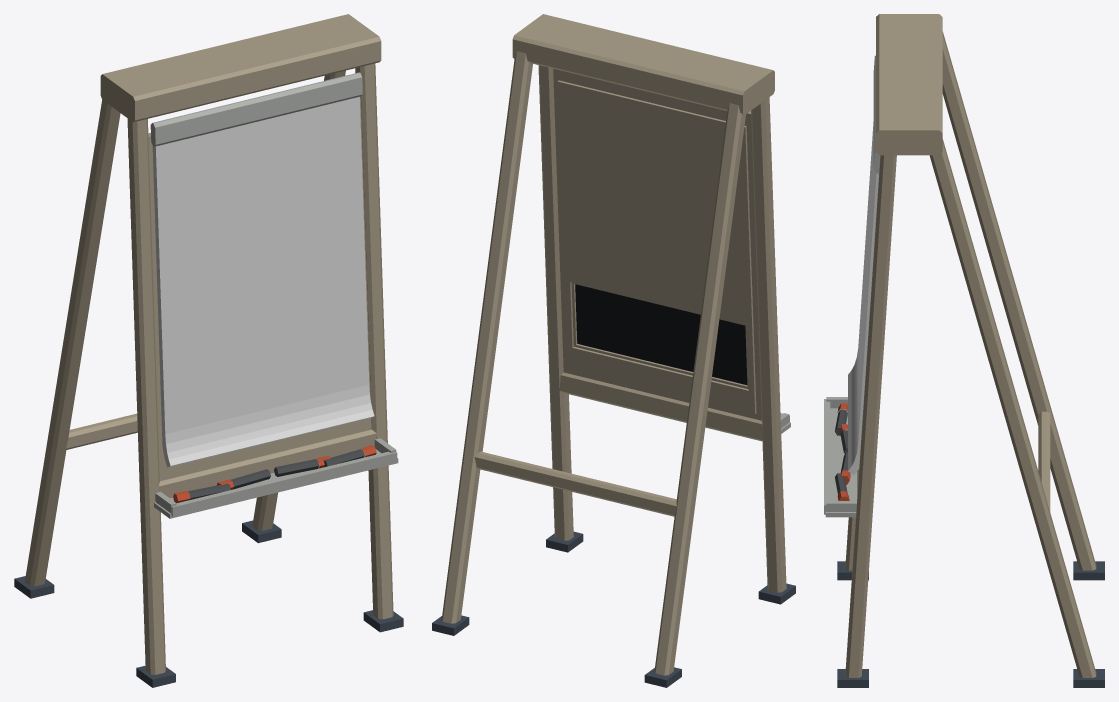
File: flipchart-easel-6d1844.glb
3 views of the same model, side by side, from view 1: azimuth 30°, elevation 25°; view 2: azimuth 150°, elevation 25°; view 3: azimuth 270°, elevation 25° (orthographic). The views are drawn at different scales.
Visible parts, largest first — view 1: easel, rear-frame-mesh, clamp-mesh, markers-mesh; view 2: easel, rear-frame-mesh; view 3: easel, rear-frame-mesh, markers-mesh.
Boxes of the visible parts, left/top/right/bottom form: easel: left=100, top=14, right=403, bottom=687; rear-frame-mesh: left=14, top=70, right=345, bottom=598; clamp-mesh: left=150, top=72, right=362, bottom=146; markers-mesh: left=173, top=445, right=376, bottom=503; easel: left=512, top=14, right=795, bottom=604; rear-frame-mesh: left=432, top=51, right=745, bottom=687; easel: left=824, top=14, right=942, bottom=687; rear-frame-mesh: left=929, top=31, right=1104, bottom=687; markers-mesh: left=835, top=403, right=850, bottom=500.
Bounding box in the file's own units: 0.8 × 1.75 × 0.8.
